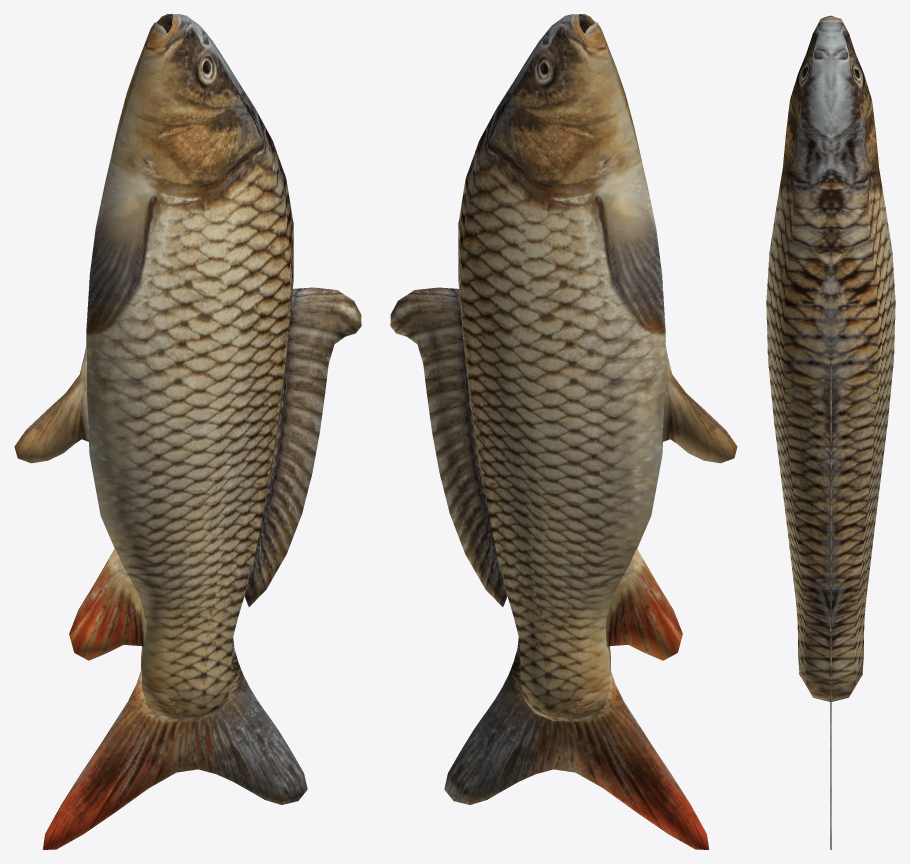
File: fih.fbx
The picture shows the model from 3 angles, left to right: view 1: azimuth 30°, elevation 25°; view 2: azimuth 150°, elevation 25°; view 3: azimuth 270°, elevation 25°; orthographic projection. The views are drawn at different scales.
Visible parts, largest first — view 1: Fish; view 2: Fish; view 3: Fish.
Boxes of the visible parts, x1=… form: Fish: x1=14, y1=14, x2=361, y2=849; Fish: x1=390, y1=14, x2=737, y2=849; Fish: x1=766, y1=15, x2=895, y2=849.
Size of the model in its own units: 254 by 573 by 86.68.
